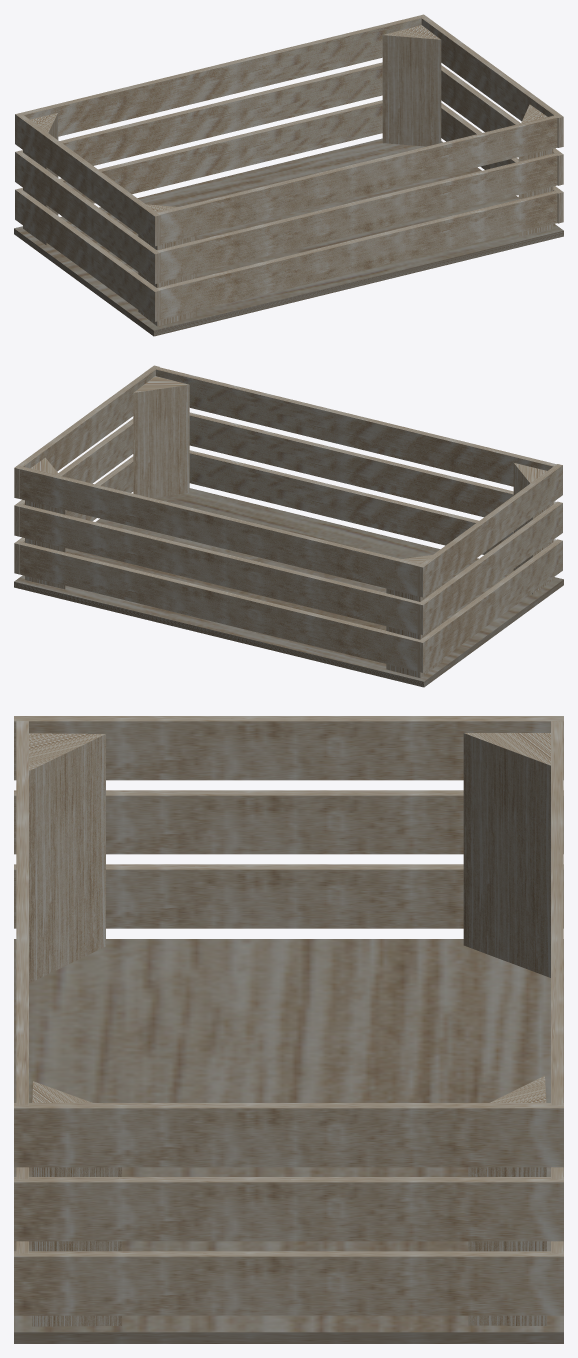
Rendered from wooden_box.glb.
3 renders of one model, top to bottom at view 1: azimuth 30°, elevation 25°; view 2: azimuth 150°, elevation 25°; view 3: azimuth 270°, elevation 25°, orthographic. The views are drawn at different scales.
Visible parts, largest first — view 1: Cube, Cube.009, Cube.007, Cube.008, Cube.012, Cube.011, Cube.010, Cube.015, Cube.001, Cube.003, Cube.002, Cube.006 (+5 smaller); view 2: Cube, Cube.012, Cube.011, Cube.010, Cube.009, Cube.008, Cube.007, Cube.016, Cube.003, Cube.001, Cube.002, Cube.006 (+5 smaller); view 3: Cube, Cube.004, Cube.005, Cube.006, Cube.003, Cube.001, Cube.002, Cube.013, Cube.014, Cube.009, Cube.012, Cube.016 (+1 smaller).
Part boxes in pixels (x1,y1,x2,y2): Cube: (14, 138, 563, 336); Cube.009: (157, 115, 559, 244); Cube.007: (157, 190, 559, 319); Cube.008: (157, 152, 559, 281); Cube.012: (21, 15, 423, 136); Cube.011: (21, 62, 382, 165); Cube.010: (21, 100, 382, 203); Cube.015: (382, 25, 441, 146); Cube.001: (15, 188, 160, 321); Cube.003: (15, 113, 160, 246); Cube.002: (15, 150, 160, 283); Cube.006: (421, 14, 563, 147); Cube: (14, 488, 563, 687); Cube.012: (18, 466, 420, 595); Cube.011: (18, 504, 419, 633); Cube.010: (18, 541, 419, 671); Cube.009: (154, 366, 556, 486); Cube.008: (189, 412, 556, 517); Cube.007: (189, 450, 556, 554); Cube.016: (133, 376, 189, 498); Cube.003: (417, 464, 562, 597); Cube.001: (417, 539, 562, 672); Cube.002: (417, 501, 562, 634); Cube.006: (14, 365, 159, 498); Cube: (14, 939, 563, 1343); Cube.004: (14, 1251, 563, 1315); Cube.005: (14, 1177, 563, 1241); Cube.006: (14, 1103, 563, 1167); Cube.003: (14, 716, 563, 780); Cube.001: (14, 864, 563, 928); Cube.002: (14, 790, 563, 854); Cube.013: (463, 733, 550, 977); Cube.014: (29, 733, 105, 983); Cube.009: (16, 721, 28, 1105); Cube.012: (551, 721, 563, 1105); Cube.016: (32, 1081, 121, 1326).
Bounding box in the file's own units: 667 × 186 × 394.
2 materials, 2 textured.
